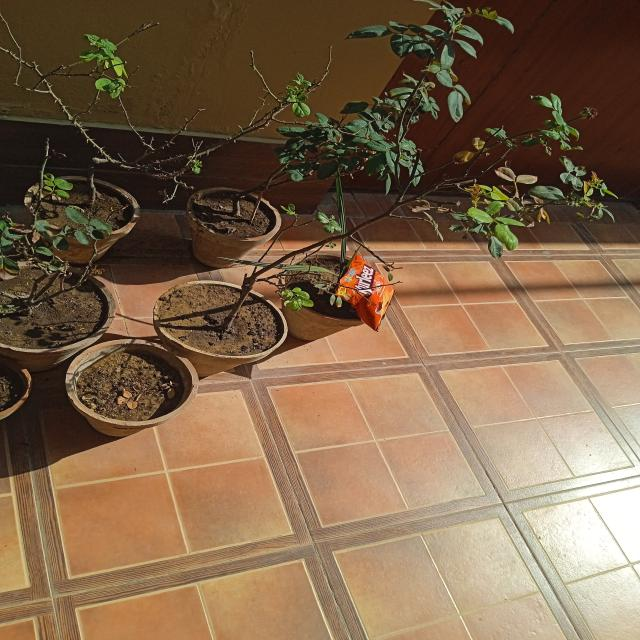Plastic: (330, 254, 395, 329)
